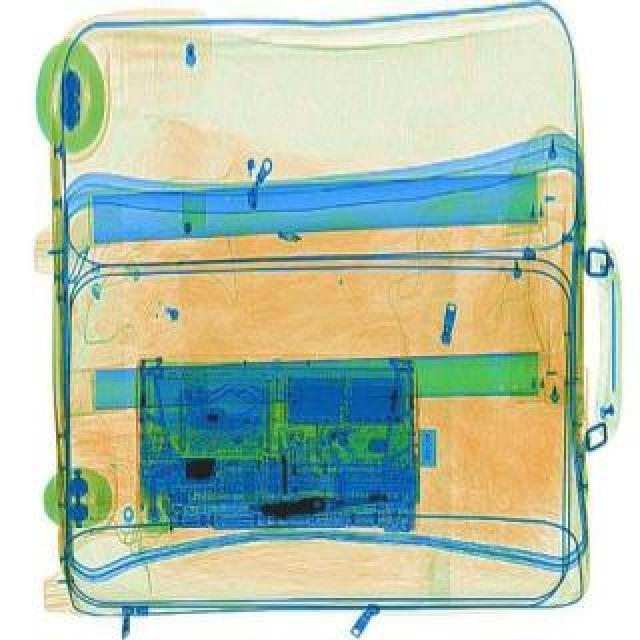gun: (248, 484, 392, 522)
